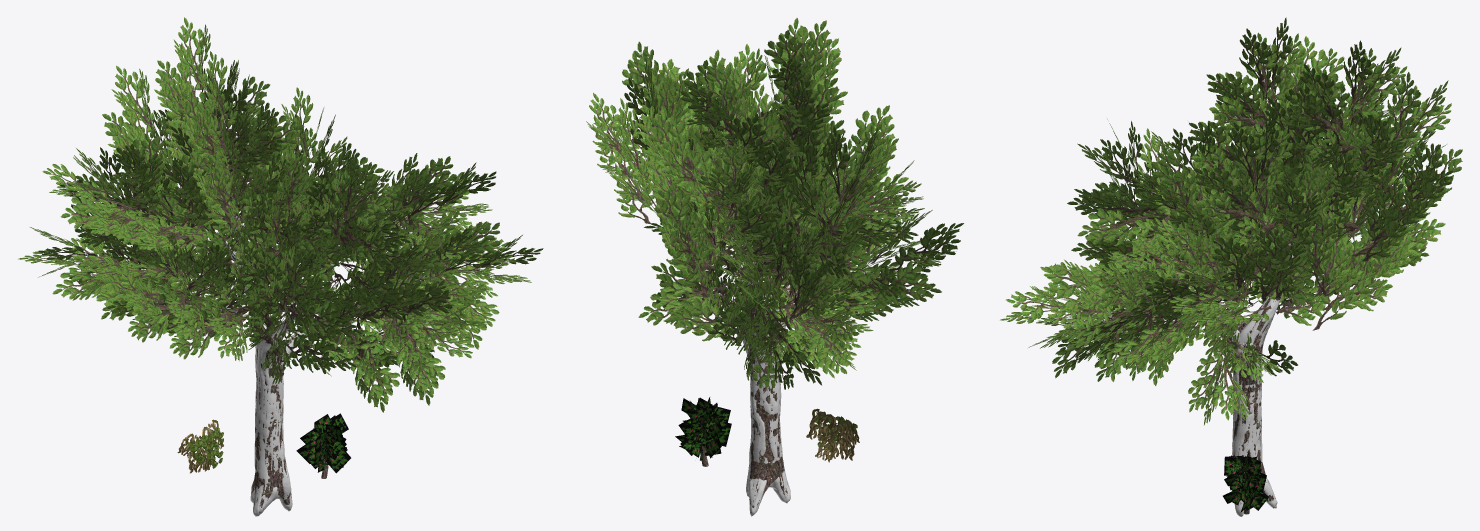
Rendered from Tree.fbx.
3 views of the same model, side by side, from view 1: azimuth 30°, elevation 25°; view 2: azimuth 150°, elevation 25°; view 3: azimuth 270°, elevation 25° (orthographic). The views are drawn at different scales.
Visible parts, largest first — view 1: Leaves1, Cylinder, Tree1, RaspberryLeaves, Plane; view 2: Leaves1, Cylinder, RaspberryLeaves, Tree1, Plane; view 3: Leaves1, Cylinder, RaspberryLeaves, Tree1.
Part boxes in pixels (x1,y1,x2,y2): Leaves1: (18, 17, 543, 412); Cylinder: (225, 214, 308, 516); Tree1: (226, 227, 296, 513); RaspberryLeaves: (296, 413, 350, 473); Plane: (177, 419, 223, 473); Leaves1: (586, 18, 963, 389); Cylinder: (718, 242, 797, 516); RaspberryLeaves: (675, 397, 731, 460); Tree1: (719, 238, 789, 512); Plane: (806, 408, 859, 462); Leaves1: (1000, 17, 1462, 425); Cylinder: (1173, 236, 1294, 516); RaspberryLeaves: (1223, 451, 1268, 512); Tree1: (1190, 255, 1290, 515).
Size of the model in its own units: 469 by 545 by 489.
